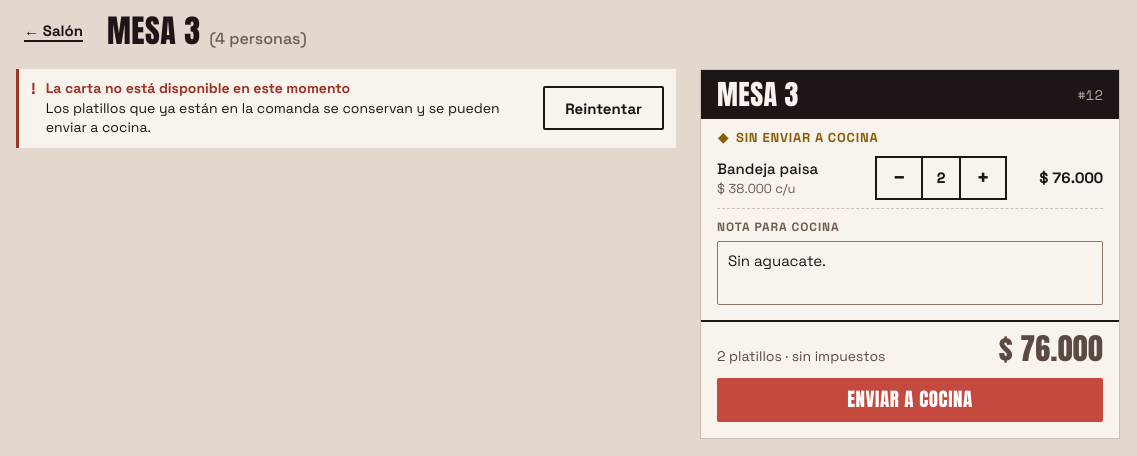
TomaPedido › con la carta caida la comanda todavia se envia a cocina
Expected: the text "La carta no está disponible en este momento" is shown, x1=46 y1=79 x2=350 y2=97
Click the button "Enviar a cocina" at coordinates (910, 400), box x1=717 y1=378 x2=1103 y2=422
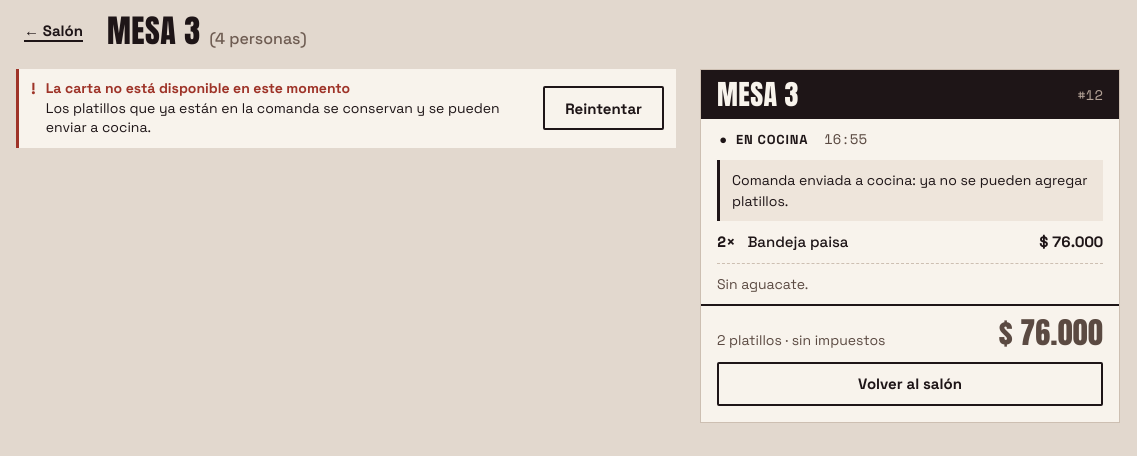
Expected: the text "Comanda enviada a cocina: ya no se pueden agregar platillos." is shown, x1=717 y1=160 x2=1103 y2=221
